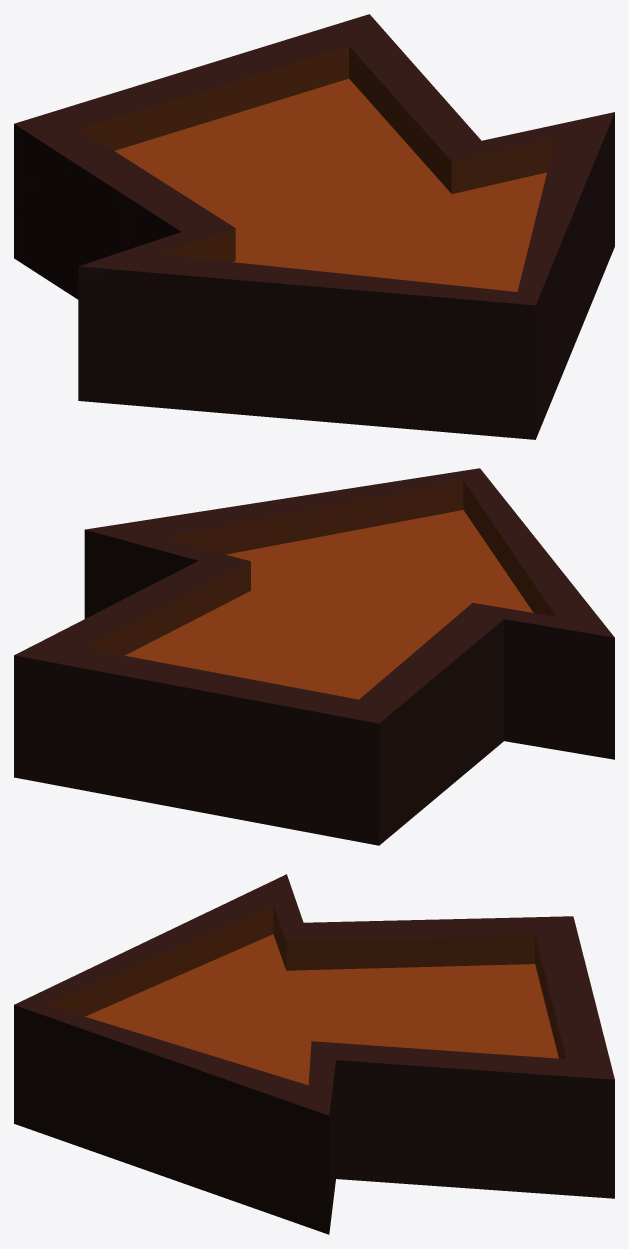
The model's file is lobbyArrow.fbx.
3 views of the same model, one above another, from view 1: azimuth 30°, elevation 25°; view 2: azimuth 150°, elevation 25°; view 3: azimuth 270°, elevation 25° (orthographic). The views are drawn at different scales.
Visible parts, largest first — view 1: lobbyArrow:pCube1; view 2: lobbyArrow:pCube1; view 3: lobbyArrow:pCube1.
Boxes of the visible parts, x1=… form: lobbyArrow:pCube1: x1=14, y1=14, x2=614, y2=439; lobbyArrow:pCube1: x1=14, y1=468, x2=614, y2=845; lobbyArrow:pCube1: x1=14, y1=874, x2=614, y2=1234.
Size of the model in its own units: 5.76 by 1.32 by 6.04.
